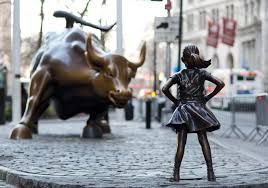person-like: (161, 41, 227, 184)
